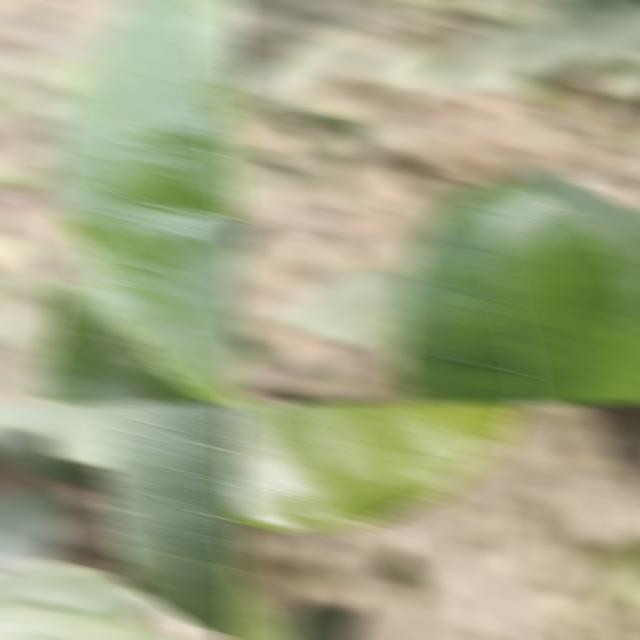Leaf: (51, 0, 242, 404), (393, 177, 640, 404), (230, 402, 527, 532), (100, 402, 242, 635), (36, 279, 215, 404), (519, 165, 640, 309), (0, 561, 152, 640), (276, 267, 410, 347), (428, 21, 554, 94), (0, 402, 128, 467), (540, 0, 640, 80), (0, 485, 72, 563), (266, 600, 366, 640)
